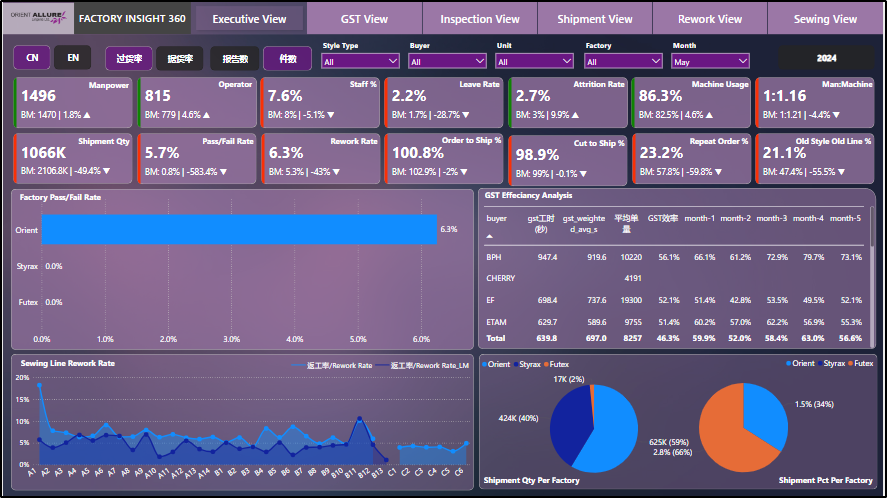

The dashboard page shown, as its layout file describes it:
{"tool":"powerbi","page":{"name":"Executive View","canvas":[1920,1080],"ordinal":1},"visuals":[{"type":"shape","title":"Navigation Panel Background Shape","box":[0,0,1920,70.8],"z":0,"group":"g17"},{"type":"shape","title":"Image back","box":[0,2.8,155.2,68.1],"z":0,"group":"g23"},{"type":"slicer","fields":{"Values":["dim_date.month"]},"box":[1449.3,79,190.2,74],"z":0,"group":"g14"},{"type":"cardVisual","fields":{"Data":["Key Measures.total_employee_countKPI"]},"box":[17,159.4,270.8,121.2],"z":0,"group":"g21"},{"type":"group","id":"g1","title":"Group 3","box":[286.9,159.4,271.2,120.9],"z":0,"group":"g20"},{"type":"cardVisual","fields":{"Data":["Key Measures.operator_count"]},"box":[286.9,159.4,271.2,120.9],"z":0,"group":"g1"},{"type":"cardVisual","fields":{"Data":["employee_machine_measures.staff%"]},"box":[556.7,159.4,271.2,121.2],"z":0,"group":"g4"},{"type":"cardVisual","fields":{"Data":["employee_machine_measures.avg_leave_rate"]},"box":[826.6,159.4,270.2,121.2],"z":0,"group":"g8"},{"type":"cardVisual","fields":{"Data":["employee_machine_measures.avg_attrition_rate"]},"box":[1096.4,159.4,271.2,121.2],"z":0,"group":"g11"},{"type":"cardVisual","fields":{"Data":["employee_machine_measures.机器使用率"]},"box":[1366.3,159.4,271.2,121.2],"z":0,"group":"g15"},{"type":"group","id":"g2","title":"Group 2","box":[1636.2,159.4,270.8,121.2],"z":0,"group":"g18"},{"type":"cardVisual","fields":{"Data":["Key Measures.mantomachineRatioistoratio"]},"box":[1636.2,159.4,270.8,121.2],"z":0,"group":"g2"},{"type":"cardVisual","fields":{"Data":["Key Measures.ship_qty"]},"box":[17,280.6,270.8,120.9],"z":0,"group":"g5"},{"type":"cardVisual","fields":{"Data":["IVnewMeasures.insRateDynResult"]},"box":[287.2,280.6,270.5,121.2],"z":0,"group":"g9"},{"type":"cardVisual","fields":{"Data":["Key Measures.rework_rate"]},"box":[557.1,280.6,270.5,121.2],"z":0,"group":"g12"},{"type":"cardVisual","fields":{"Data":["Key Measures.订单出运率"]},"box":[826.9,280.6,270.5,121.2],"z":0,"group":"g16"},{"type":"cardVisual","fields":{"Data":["Key Measures.repeat_style_rate"]},"box":[1366.7,280.6,270.5,121.2],"z":0,"group":"g19"},{"type":"cardVisual","fields":{"Data":["Key Measures.old_style_old_line_rate"]},"box":[1636.5,280.6,270.5,121.2],"z":0,"group":"g22"},{"type":"cardVisual","fields":{"Data":["Key Measures.裁剪出运率"]},"box":[1097,284.9,270.5,121.2],"z":0,"group":"g7"},{"type":"shape","box":[1037,407.1,868.8,350.9],"z":0,"group":"g6"},{"type":"shape","title":"background","box":[17,407.9,1009.8,350.8],"z":0,"group":"g10"},{"type":"group","id":"g3","title":"RR chart","box":[17,767.5,1009.8,297.6],"z":0},{"type":"shape","title":"background","box":[17,767.5,1009.8,297.6],"z":0,"group":"g3"},{"type":"shape","title":"background","box":[1039.1,767.8,869.4,295.4],"z":0,"group":"g13"},{"type":"image","title":"logo","box":[4.4,0,145.7,68.6],"z":1000,"group":"g23"},{"type":"actionButton","title":"Executive View Icon","box":[412.4,0,250.9,70.2],"z":1000,"group":"g17"},{"type":"slicer","fields":{"Values":["dim_style_type.style_type"]},"box":[684.9,79,190.2,74],"z":1000,"group":"g14"},{"type":"group","id":"g4","title":"Group 4","box":[556.7,159.4,271.2,121.2],"z":1000,"group":"g20"},{"type":"actionButton","title":"title","box":[453.2,161.5,93.8,35],"z":1000,"group":"g1"},{"type":"actionButton","title":"title","box":[688.9,161.5,130.1,35],"z":1000,"group":"g4"},{"type":"actionButton","title":"title","box":[943.9,161.5,142.9,35],"z":1000,"group":"g8"},{"type":"actionButton","title":"title","box":[1215.8,161.5,142.9,35],"z":1000,"group":"g11"},{"type":"actionButton","title":"title","box":[1477.2,161.5,153.5,35],"z":1000,"group":"g15"},{"type":"actionButton","title":"title","box":[1764.2,161.5,136.5,35],"z":1000,"group":"g18"},{"type":"actionButton","title":"title","box":[164.1,163.6,115.2,35],"z":1000,"group":"g21"},{"type":"group","id":"g5","title":"Group 8","box":[17,280.6,270.8,120.9],"z":1000,"group":"g24"},{"type":"actionButton","title":"title","box":[921.3,283.8,170.6,35],"z":1000,"group":"g16"},{"type":"actionButton","title":"title","box":[136.4,284.8,142.9,35],"z":1000,"group":"g5"},{"type":"actionButton","title":"title","box":[393.8,284.8,155.7,35],"z":1000,"group":"g9"},{"type":"actionButton","title":"title","box":[674.4,284.8,145,35],"z":1000,"group":"g12"},{"type":"actionButton","title":"title","box":[1469.1,284.8,159.9,35],"z":1000,"group":"g19"},{"type":"actionButton","title":"title","box":[1721.8,284.8,177,35],"z":1000,"group":"g22"},{"type":"actionButton","title":"title","box":[1218.6,289.1,140.7,35],"z":1000,"group":"g7"},{"type":"group","id":"g6","title":"GST Eff","box":[1037,403.9,870,355],"z":1000},{"type":"clusteredBarChart","fields":{"Category":["dim_factory.factory"],"Y":["newMeasures.inspectionRateDynamicResult"]},"box":[17,419.2,1007,339.2],"z":1000,"group":"g10"},{"type":"pivotTable","fields":{"Rows":["dim_buyer.buyer"],"Values":["Key Measures.gst_avg_time_s","Key Measures.gst_weighted_avg","Key Measures.平均单量","Key Measures.GST生产效率","Key Measures.month-1","Key Measures.GST生产效率 month-2","Key Measures.GST生产效率 month-3","Key Measures.GST生产效率 month-4","Key Measures.GST生产效率 month-5"]},"box":[1046.4,439.9,860.6,319],"z":1000,"group":"g6"},{"type":"areaChart","fields":{"Category":["dim_line.line"],"Y":["Key Measures.rework_rate","Key Measures.rework_rate_LM"]},"box":[20.5,769.3,1005.8,293.2],"z":1000,"group":"g3"},{"type":"group","id":"g7","title":"Group 13","box":[1097,284.9,270,121.2],"z":1500,"group":"g24"},{"type":"actionButton","title":"Overshipment View Icon","box":[1167.2,0,248.7,70.2],"z":2000,"group":"g17"},{"type":"slicer","fields":{"Values":["dim_buyer.buyer"]},"box":[875.1,79,190.2,74],"z":2000,"group":"g14"},{"type":"group","id":"g8","title":"Group 5","box":[826.6,159.4,270.2,121.2],"z":2000,"group":"g20"},{"type":"group","id":"g9","title":"Group 10","box":[287.2,280.6,270.5,121.2],"z":2000,"group":"g24"},{"type":"actionButton","title":"title","box":[1048,403.9,248.3,35],"z":2000,"group":"g6"},{"type":"group","id":"g10","title":"Inspection chart","box":[17,407.9,1009.8,350.8],"z":2000},{"type":"actionButton","title":"title","box":[32.5,408.2,327,35],"z":2000,"group":"g10"},{"type":"pieChart","fields":{"Category":["dim_factory.factory"],"Y":["Key Measures.total_ship_qty"]},"box":[1038.5,767.6,502.1,293.2],"z":2000,"group":"g13"},{"type":"actionButton","title":"title","box":[33.5,768.6,259.4,35],"z":2000,"group":"g3"},{"type":"actionButton","title":"Inspection View Icon","box":[916.3,0,248.7,70.2],"z":3000,"group":"g17"},{"type":"slicer","fields":{"Values":["dim_factory.factory"]},"box":[1259.1,79,190.2,74],"z":3000,"group":"g14"},{"type":"group","id":"g11","title":"Group 6","box":[1096.4,159.4,271.2,121.2],"z":3000,"group":"g20"},{"type":"group","id":"g12","title":"Group 11","box":[557.1,280.6,270.5,121.2],"z":3000,"group":"g24"},{"type":"group","id":"g13","title":"Pie Chart","box":[1038.5,765.6,870,297.6],"z":3000},{"type":"pieChart","fields":{"Y":["Key Measures.overshipment_pct"],"Category":["dim_factory.factory"]},"box":[1321.5,765.6,587,293.2],"z":3000,"group":"g13"},{"type":"actionButton","title":"title","box":[1044.9,1025,225.6,35],"z":3500,"group":"g13"},{"type":"actionButton","title":"Sewing View Icon","box":[1668.9,0,250.9,70.2],"z":4000,"group":"g17"},{"type":"group","id":"g14","title":"Slicer Panel","box":[218.7,79,1688.3,75.7],"z":4000},{"type":"slicer","fields":{"Values":["dim_unit.unit"]},"box":[1065.3,79,190.2,74],"z":4000,"group":"g14"},{"type":"group","id":"g15","title":"Group 7","box":[1366.3,159.4,271.2,121.2],"z":4000,"group":"g20"},{"type":"group","id":"g16","title":"Group 12","box":[826.9,280.6,270.5,121.2],"z":4000,"group":"g24"},{"type":"actionButton","title":"title","box":[1673.9,1025,228.2,35],"z":4000,"group":"g13"},{"type":"group","id":"g17","title":"Navigation panel","box":[0,0,1920,70.8],"z":5000},{"type":"actionButton","title":"GST View Icon","box":[663.3,0,250.9,70.2],"z":5000,"group":"g17"},{"type":"advancedSlicerVisual","title":"Slicer year","fields":{"Values":["dim_date.year"]},"box":[1686.1,89.9,221,63.4],"z":5000,"group":"g14"},{"type":"group","id":"g18","title":"Group 9","box":[1636.2,159.4,270.8,121.2],"z":5000,"group":"g20"},{"type":"group","id":"g19","title":"Group 14","box":[1366.7,280.6,270.5,121.2],"z":5000,"group":"g24"},{"type":"shape","title":"Orient Insight 360 Button","box":[155.2,0,255,70.2],"z":6000,"group":"g17"},{"type":"advancedSlicerVisual","fields":{"Values":["Pass-Fail Rate Slicer.BM"]},"box":[218.7,91.7,225.4,63],"z":6000,"group":"g14"},{"type":"group","id":"g20","title":"1st row KPI","box":[17,159.4,1890,121.2],"z":6000},{"type":"group","id":"g21","title":"Group 1","box":[17,159.4,270.8,121.2],"z":6000,"group":"g20"},{"type":"group","id":"g22","title":"Group 15","box":[1636.5,280.6,270.5,121.2],"z":6000,"group":"g24"},{"type":"group","id":"g23","title":"Orient Logo","box":[0,0,150.9,70.2],"z":7000,"group":"g17"},{"type":"advancedSlicerVisual","fields":{"Values":["Report-ShipQty Slicer.BM"]},"box":[448.1,91.7,233.9,63],"z":7000,"group":"g14"},{"type":"group","id":"g24","title":"2nd row KPI","box":[17,280.6,1890,125.4],"z":7000},{"type":"actionButton","title":"RR View Icon","box":[1418,0,248.7,70.2],"z":8000,"group":"g17"},{"type":"advancedSlicerVisual","title":"Slicer year","fields":{"Values":["#lan-slicer.Lan"]},"box":[17,89.9,181.1,63],"z":8000}]}

Visuals, with their boxes in screenshot pixels (x1, y1, x2, y2), scaled from the page's 1920x1080 canvas onto the 887x498 screenshot:
"Navigation Panel Background Shape" shape: rect(0, 0, 886, 33)
"Image back" shape: rect(0, 1, 72, 33)
slicer - dim_date.month: rect(670, 36, 757, 71)
cardVisual - Key Measures.total_employee_countKPI: rect(8, 74, 133, 129)
"Group 3" group: rect(133, 74, 258, 129)
cardVisual - Key Measures.operator_count: rect(133, 74, 258, 129)
cardVisual - employee_machine_measures.staff%: rect(257, 74, 382, 129)
cardVisual - employee_machine_measures.avg_leave_rate: rect(382, 74, 507, 129)
cardVisual - employee_machine_measures.avg_attrition_rate: rect(507, 74, 632, 129)
cardVisual - employee_machine_measures.机器使用率: rect(631, 74, 756, 129)
"Group 2" group: rect(756, 74, 881, 129)
cardVisual - Key Measures.mantomachineRatioistoratio: rect(756, 74, 881, 129)
cardVisual - Key Measures.ship_qty: rect(8, 129, 133, 185)
cardVisual - IVnewMeasures.insRateDynResult: rect(133, 129, 258, 185)
cardVisual - Key Measures.rework_rate: rect(257, 129, 382, 185)
cardVisual - Key Measures.订单出运率: rect(382, 129, 507, 185)
cardVisual - Key Measures.repeat_style_rate: rect(631, 129, 756, 185)
cardVisual - Key Measures.old_style_old_line_rate: rect(756, 129, 881, 185)
cardVisual - Key Measures.裁剪出运率: rect(507, 131, 632, 187)
shape: rect(479, 188, 880, 350)
"background" shape: rect(8, 188, 474, 350)
"RR chart" group: rect(8, 354, 474, 491)
"background" shape: rect(8, 354, 474, 491)
"background" shape: rect(480, 354, 882, 490)
"logo" image: rect(2, 0, 69, 32)
"Executive View Icon" actionButton: rect(191, 0, 306, 32)
slicer - dim_style_type.style_type: rect(316, 36, 404, 71)
"Group 4" group: rect(257, 74, 382, 129)
"title" actionButton: rect(209, 74, 253, 91)
"title" actionButton: rect(318, 74, 378, 91)
"title" actionButton: rect(436, 74, 502, 91)
"title" actionButton: rect(562, 74, 628, 91)
"title" actionButton: rect(682, 74, 753, 91)
"title" actionButton: rect(815, 74, 878, 91)
"title" actionButton: rect(76, 75, 129, 92)
"Group 8" group: rect(8, 129, 133, 185)
"title" actionButton: rect(426, 131, 504, 147)
"title" actionButton: rect(63, 131, 129, 147)
"title" actionButton: rect(182, 131, 254, 147)
"title" actionButton: rect(312, 131, 379, 147)
"title" actionButton: rect(679, 131, 753, 147)
"title" actionButton: rect(795, 131, 877, 147)
"title" actionButton: rect(563, 133, 628, 149)
"GST Eff" group: rect(479, 186, 881, 350)
clusteredBarChart - dim_factory.factory x newMeasures.inspectionRateDynamicResult: rect(8, 193, 473, 350)
pivotTable - dim_buyer.buyer x Key Measures.gst_avg_time_s: rect(483, 203, 881, 350)
areaChart - dim_line.line x Key Measures.rework_rate: rect(9, 355, 474, 490)
"Group 13" group: rect(507, 131, 632, 187)
"Overshipment View Icon" actionButton: rect(539, 0, 654, 32)
slicer - dim_buyer.buyer: rect(404, 36, 492, 71)
"Group 5" group: rect(382, 74, 507, 129)
"Group 10" group: rect(133, 129, 258, 185)
"title" actionButton: rect(484, 186, 599, 202)
"Inspection chart" group: rect(8, 188, 474, 350)
"title" actionButton: rect(15, 188, 166, 204)
pieChart - dim_factory.factory x Key Measures.total_ship_qty: rect(480, 354, 712, 489)
"title" actionButton: rect(15, 354, 135, 371)
"Inspection View Icon" actionButton: rect(423, 0, 538, 32)
slicer - dim_factory.factory: rect(582, 36, 670, 71)
"Group 6" group: rect(507, 74, 632, 129)
"Group 11" group: rect(257, 129, 382, 185)
"Pie Chart" group: rect(480, 353, 882, 490)
pieChart - Key Measures.overshipment_pct x dim_factory.factory: rect(611, 353, 882, 488)
"title" actionButton: rect(483, 473, 587, 489)
"Sewing View Icon" actionButton: rect(771, 0, 886, 32)
"Slicer Panel" group: rect(101, 36, 881, 71)
slicer - dim_unit.unit: rect(492, 36, 580, 71)
"Group 7" group: rect(631, 74, 756, 129)
"Group 12" group: rect(382, 129, 507, 185)
"title" actionButton: rect(773, 473, 879, 489)
"Navigation panel" group: rect(0, 0, 886, 33)
"GST View Icon" actionButton: rect(306, 0, 422, 32)
"Slicer year" advancedSlicerVisual: rect(779, 41, 881, 71)
"Group 9" group: rect(756, 74, 881, 129)
"Group 14" group: rect(631, 129, 756, 185)
"Orient Insight 360 Button" shape: rect(72, 0, 190, 32)
advancedSlicerVisual - Pass-Fail Rate Slicer.BM: rect(101, 42, 205, 71)
"1st row KPI" group: rect(8, 74, 881, 129)
"Group 1" group: rect(8, 74, 133, 129)
"Group 15" group: rect(756, 129, 881, 185)
"Orient Logo" group: rect(0, 0, 70, 32)
advancedSlicerVisual - Report-ShipQty Slicer.BM: rect(207, 42, 315, 71)
"2nd row KPI" group: rect(8, 129, 881, 187)
"RR View Icon" actionButton: rect(655, 0, 770, 32)
"Slicer year" advancedSlicerVisual: rect(8, 41, 92, 71)
